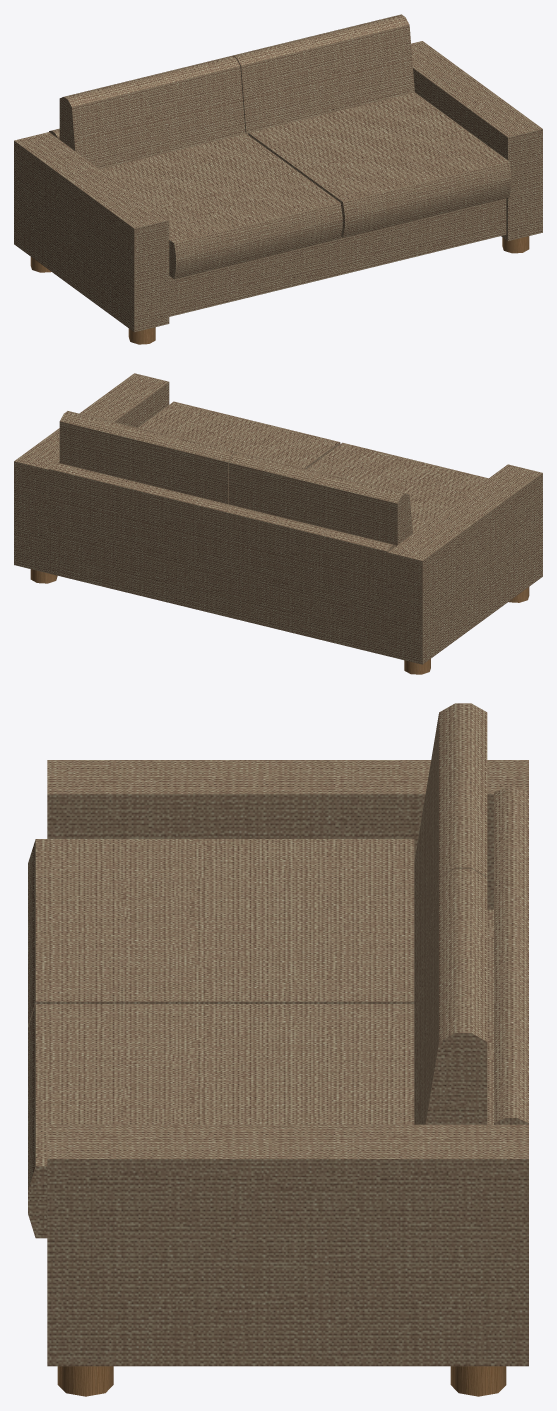
Rendered from Sofa_A.DAE.
3 views of the same model, one above another, from view 1: azimuth 30°, elevation 25°; view 2: azimuth 150°, elevation 25°; view 3: azimuth 270°, elevation 25° (orthographic). The views are drawn at different scales.
Parts seen in each view (by area): view 1: Sofa_A; view 2: Sofa_A; view 3: Sofa_A.
Boxes of the visible parts, <box> form: Sofa_A: <box>14,14,542,344</box>; Sofa_A: <box>14,373,542,674</box>; Sofa_A: <box>28,703,528,1396</box>.
Bounding box in the file's own units: 2.29 × 1.22 × 0.8973.
Materials: 1 (1 with a texture image).
